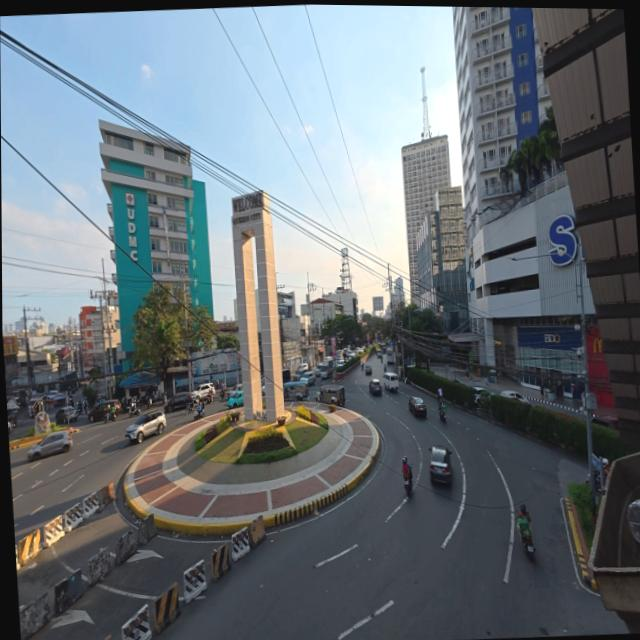Jeepneys: (317, 385, 346, 405), (284, 379, 309, 400)
bus: (386, 347, 395, 365)
car: (126, 411, 166, 443), (28, 432, 72, 461), (429, 445, 452, 484), (88, 401, 121, 421), (165, 393, 193, 412), (55, 405, 78, 425), (193, 383, 215, 402), (592, 415, 619, 430), (136, 393, 161, 409), (501, 390, 529, 404), (409, 396, 427, 416), (474, 387, 491, 405), (28, 397, 43, 417), (228, 390, 243, 408), (369, 379, 383, 396), (302, 370, 316, 386), (297, 363, 309, 372), (294, 370, 303, 381), (365, 364, 372, 375), (233, 383, 242, 391), (261, 383, 266, 395), (338, 360, 345, 367), (8, 422, 12, 433), (378, 352, 383, 359)
motorcycle: (518, 518, 535, 556), (404, 464, 413, 496), (594, 468, 602, 492), (128, 401, 139, 417), (404, 478, 413, 496), (194, 407, 205, 421), (439, 404, 446, 423), (104, 413, 116, 423), (77, 403, 83, 415), (186, 403, 192, 414), (162, 393, 167, 404)
trucks: (316, 358, 335, 378)
vans: (384, 373, 399, 391)
